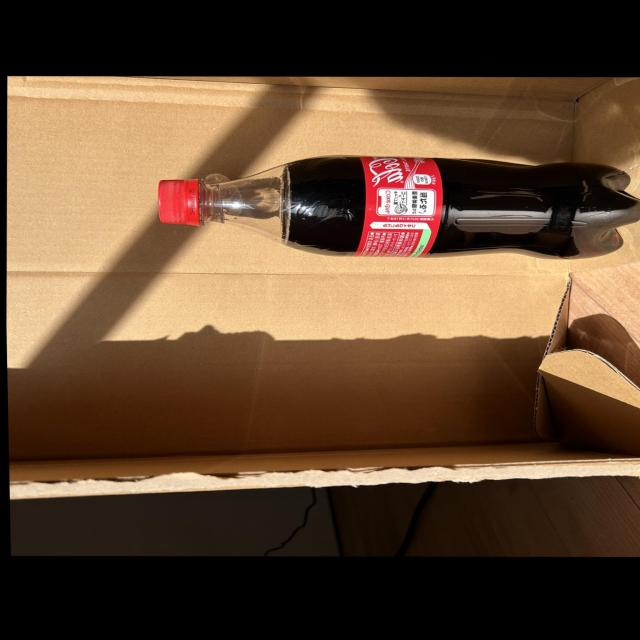high: (158, 154, 640, 263)
